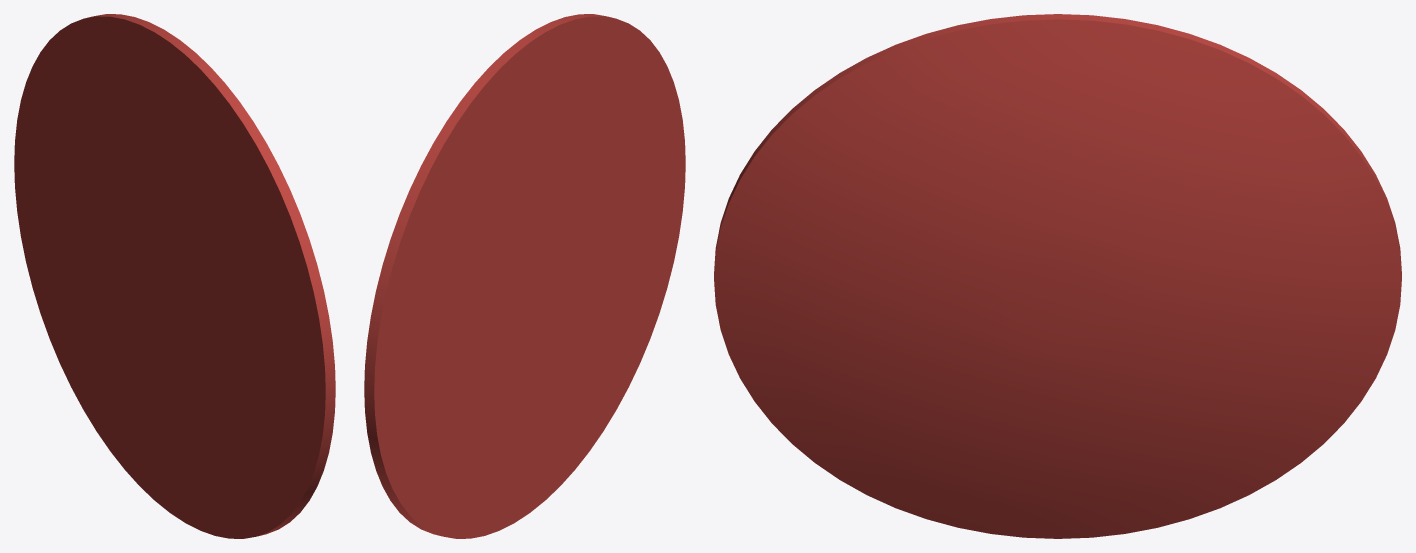
File: chrome.glb
The picture shows the model from 3 angles, left to right: view 1: azimuth 30°, elevation 25°; view 2: azimuth 150°, elevation 25°; view 3: azimuth 270°, elevation 25°; orthographic projection. The views are drawn at different scales.
Parts seen in each view (by area): view 1: lod0; view 2: lod0; view 3: lod0.
Part boxes in pixels (left/top/right/bottom): lod0: left=14, top=14, right=335, bottom=538; lod0: left=364, top=14, right=685, bottom=538; lod0: left=714, top=14, right=1401, bottom=538.
Size of what is drawn, in the model's own units: 0.0197 by 0.18 by 0.216.
